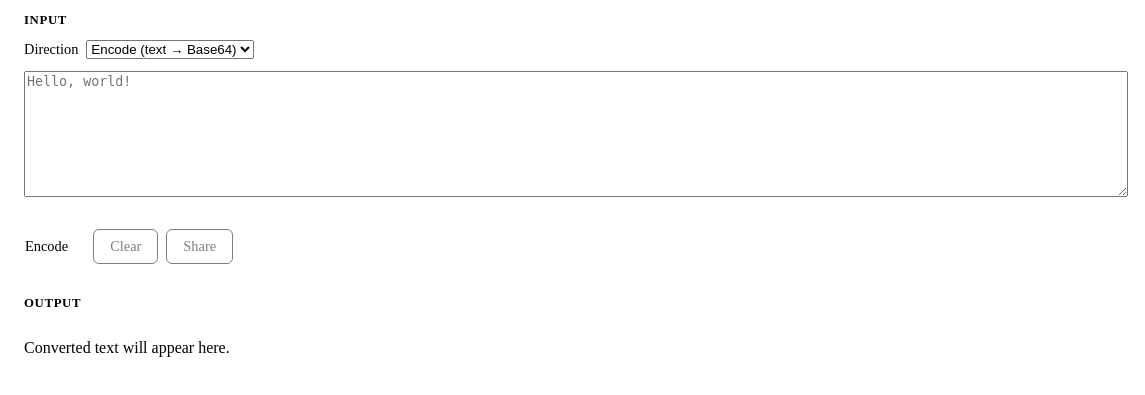
Base64CodecTool › encodes user input on demand
Type "Hello" into the text box named "Base64 input" at (576, 134), box [24,71,1128,197]
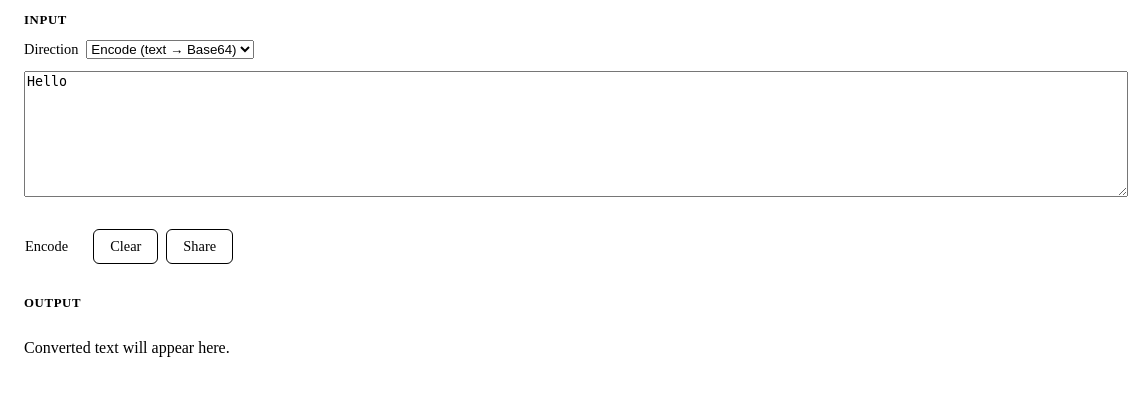
Click the button "Encode" at (47, 246), box [8,229,85,264]
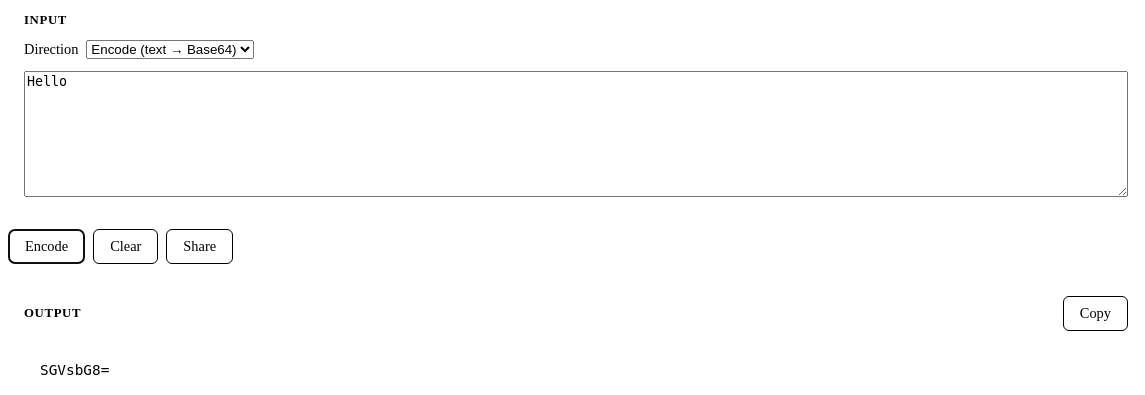
Result: the text with test id "base64-output" reads "SGVsbG8=" at [40,362,109,378]
Result: the button "Copy" is enabled at [1063,296,1128,331]
